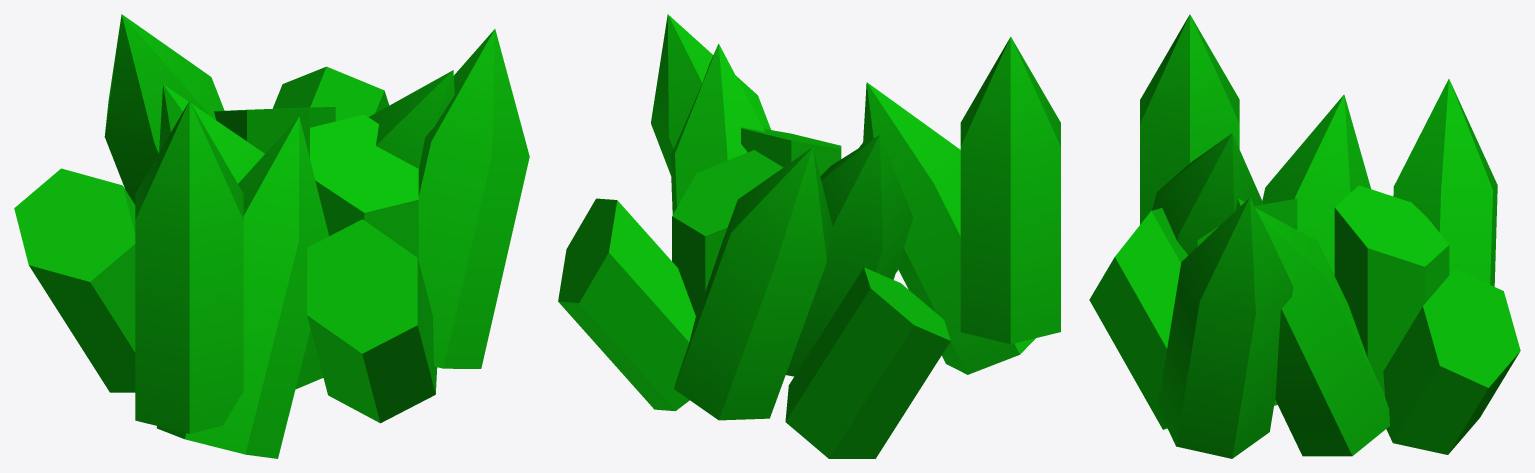
File: earthcrystalgrowth.obj
3 renders of one model, left to right at view 1: azimuth 30°, elevation 25°; view 2: azimuth 150°, elevation 25°; view 3: azimuth 270°, elevation 25°, orthographic. The views are drawn at different scales.
Visible parts, largest first — view 1: g0; view 2: g0; view 3: g0.
Part boxes in pixels (bbox=[...]): g0: bbox=[14, 14, 529, 458]; g0: bbox=[558, 14, 1060, 458]; g0: bbox=[1089, 14, 1520, 458].
Size of the model in its own units: 0.9786 by 0.8778 by 0.9762.
